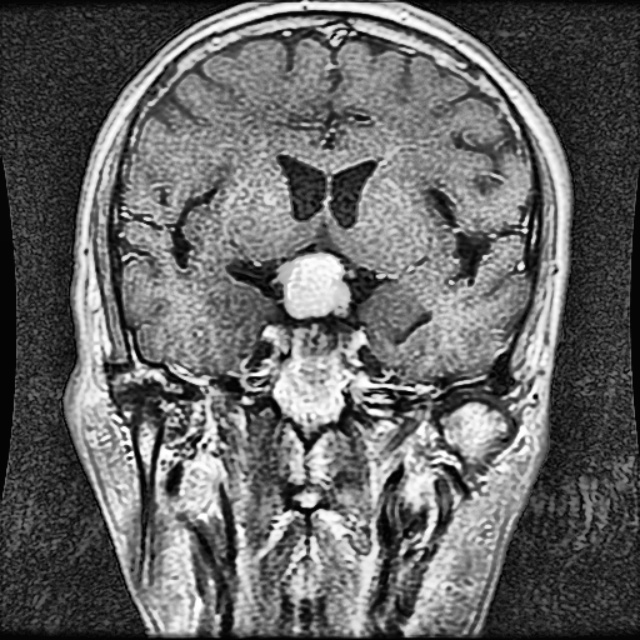Glioma: (280, 252, 350, 319)
